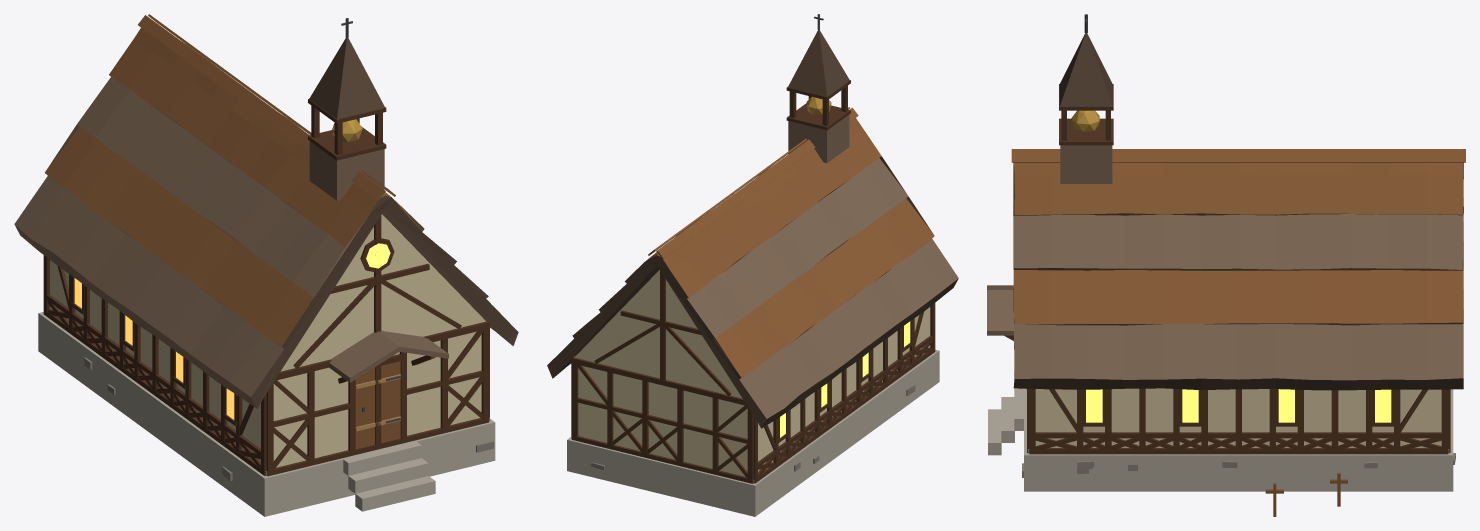
Rendered from Dorf_Kapelle.fbx.
3 renders of one model, left to right at view 1: azimuth 30°, elevation 25°; view 2: azimuth 150°, elevation 25°; view 3: azimuth 270°, elevation 25°, orthographic. The views are drawn at different scales.
Visible parts, largest first — view 1: Dorf_Kapelle; view 2: Dorf_Kapelle; view 3: Dorf_Kapelle.
Part boxes in pixels (bbox=[...]): Dorf_Kapelle: bbox=[14, 14, 518, 516]; Dorf_Kapelle: bbox=[547, 14, 958, 516]; Dorf_Kapelle: bbox=[987, 14, 1465, 516].
Size of the model in its own units: 8.38 by 11.65 by 11.93.
